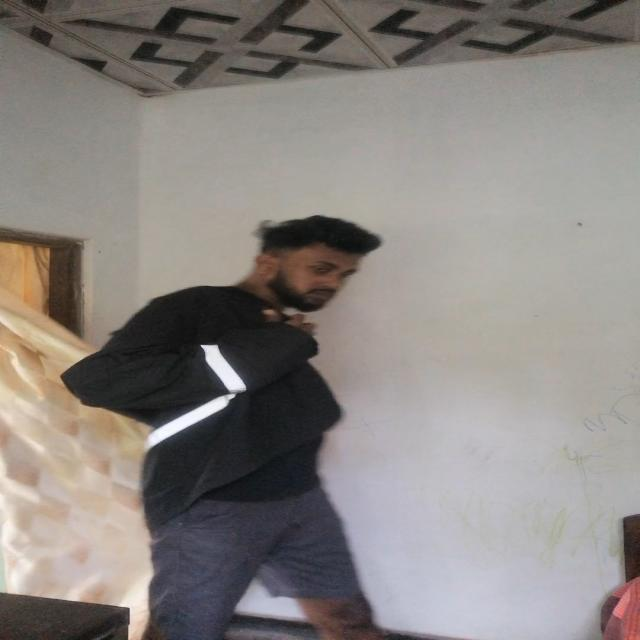Jacket_Wearer: (85, 276, 371, 516)
